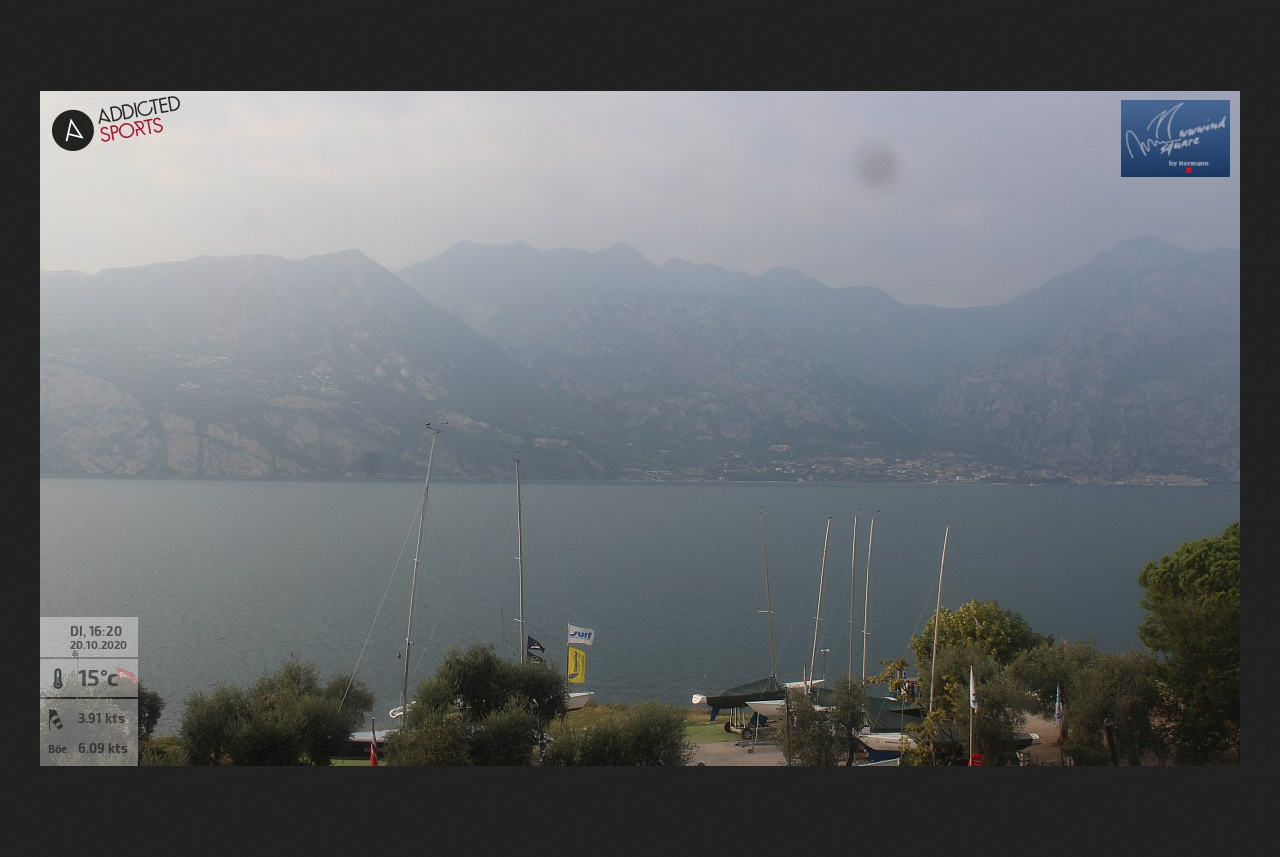no: (965, 667, 982, 716), (1053, 686, 1067, 730)
yes: (567, 621, 602, 646)
